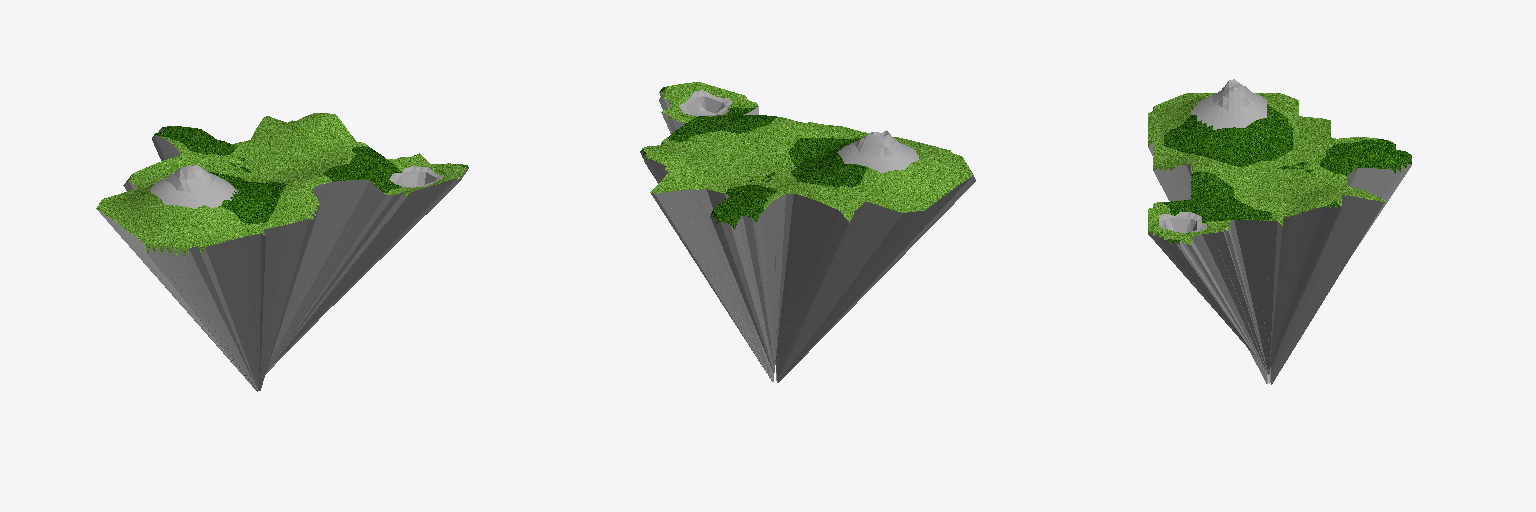
3 views of the same model, side by side, from view 1: azimuth 30°, elevation 25°; view 2: azimuth 150°, elevation 25°; view 3: azimuth 270°, elevation 25° (orthographic).
Parts seen in each view (by area): view 1: Plane_Detached_Detached, Plane_Detached_Detached.001, Plane_Detached, Plane_Detached_Detached_001, Plane_Detached_Detached.002; view 2: Plane_Detached_Detached, Plane_Detached_Detached.001, Plane_Detached, Plane_Detached_Detached_001, Plane_Detached_Detached.002; view 3: Plane_Detached_Detached, Plane_Detached_Detached.001, Plane_Detached, Plane_Detached_Detached_001, Plane_Detached_Detached.002.
Boxes of the visible parts, x1,y1,x2,y2 form: Plane_Detached_Detached: [98, 129, 468, 391]; Plane_Detached_Detached.001: [96, 113, 466, 256]; Plane_Detached: [154, 126, 468, 224]; Plane_Detached_Detached_001: [150, 165, 236, 208]; Plane_Detached_Detached.002: [389, 166, 443, 187]; Plane_Detached_Detached: [640, 92, 975, 382]; Plane_Detached_Detached.001: [643, 82, 972, 222]; Plane_Detached: [640, 86, 867, 229]; Plane_Detached_Detached_001: [837, 130, 919, 172]; Plane_Detached_Detached.002: [679, 90, 732, 116]; Plane_Detached_Detached: [1148, 143, 1411, 384]; Plane_Detached_Detached.001: [1148, 93, 1384, 244]; Plane_Detached: [1164, 104, 1411, 244]; Plane_Detached_Detached_001: [1191, 79, 1266, 129]; Plane_Detached_Detached.002: [1159, 212, 1206, 232].
Size of the model in its own units: 376 by 295 by 271.
Materials: 6 (2 with a texture image).